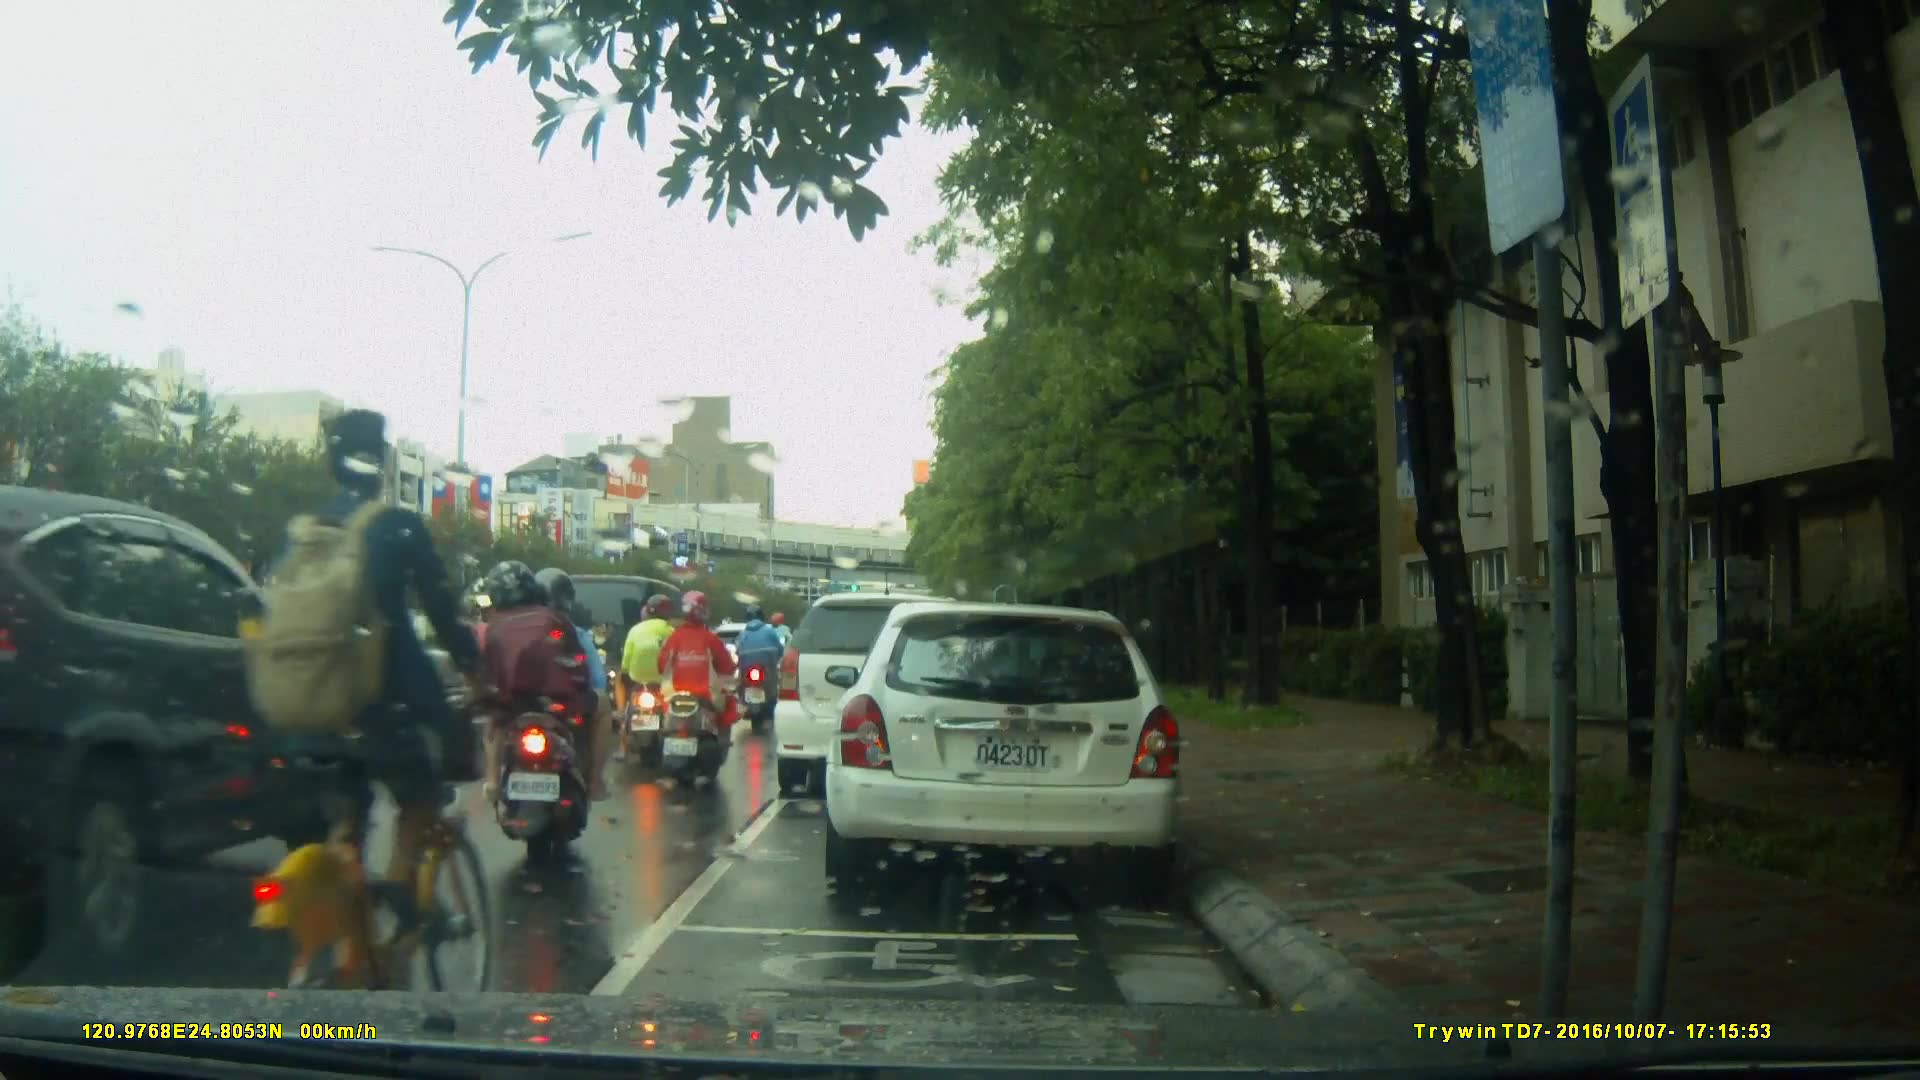rider: (236, 406, 504, 1044), (482, 562, 612, 867), (657, 593, 737, 791), (620, 598, 699, 767), (661, 600, 734, 736), (447, 596, 515, 737), (739, 597, 789, 730)
vehicle: (2, 487, 392, 968), (822, 604, 1188, 883), (774, 595, 995, 802), (272, 610, 492, 733)
